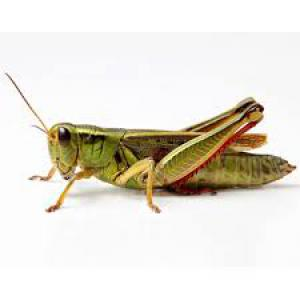locust: (16, 84, 286, 240)
